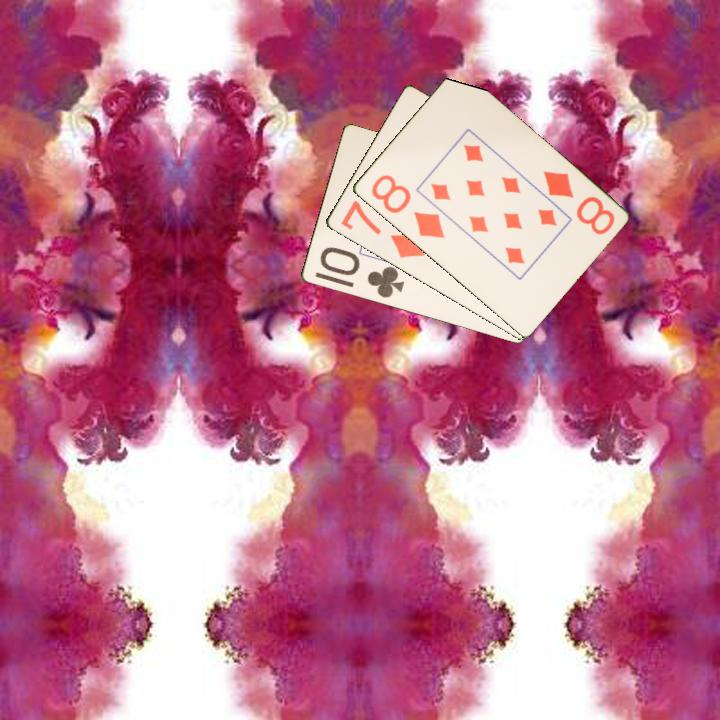10c: (316, 244, 407, 301)
7d: (337, 197, 428, 261)
8d: (367, 171, 448, 242), (539, 167, 617, 238)
